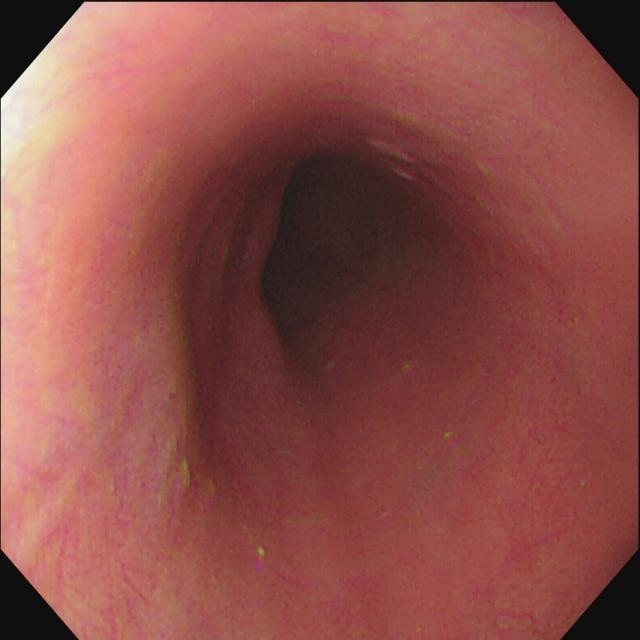E: (256, 142, 361, 333)
